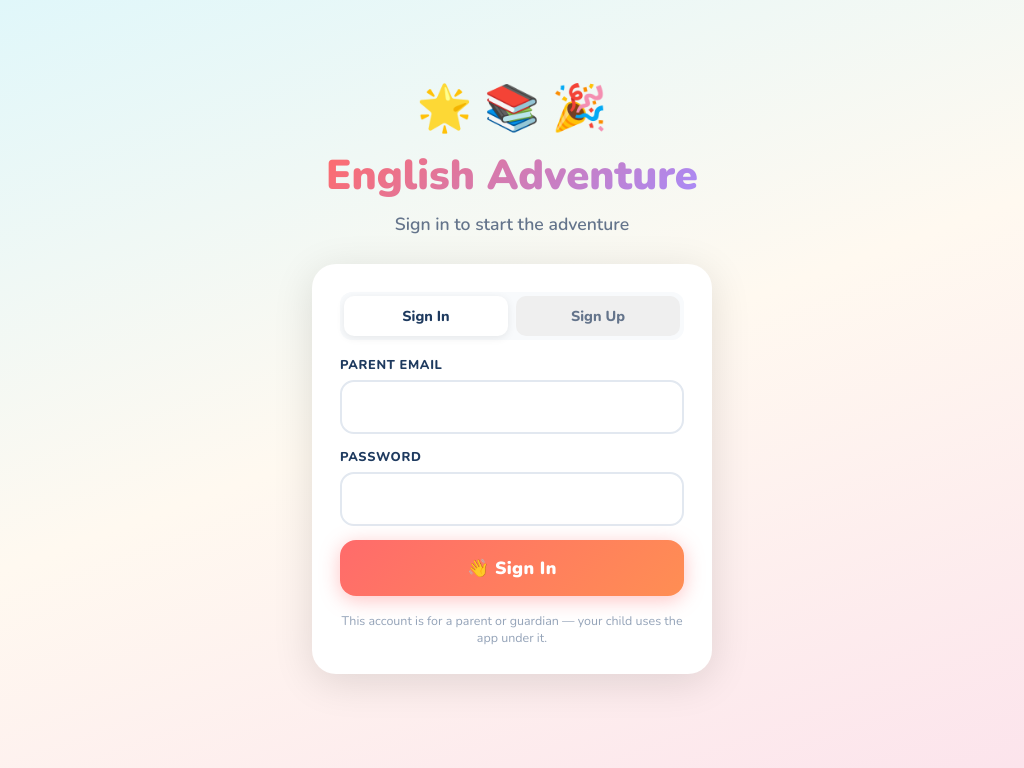
Scenario: AuthScreen › switches to the sign-up form when the Sign Up tab is clicked
Click the button "Sign Up": (598, 316) [516,296,680,336]
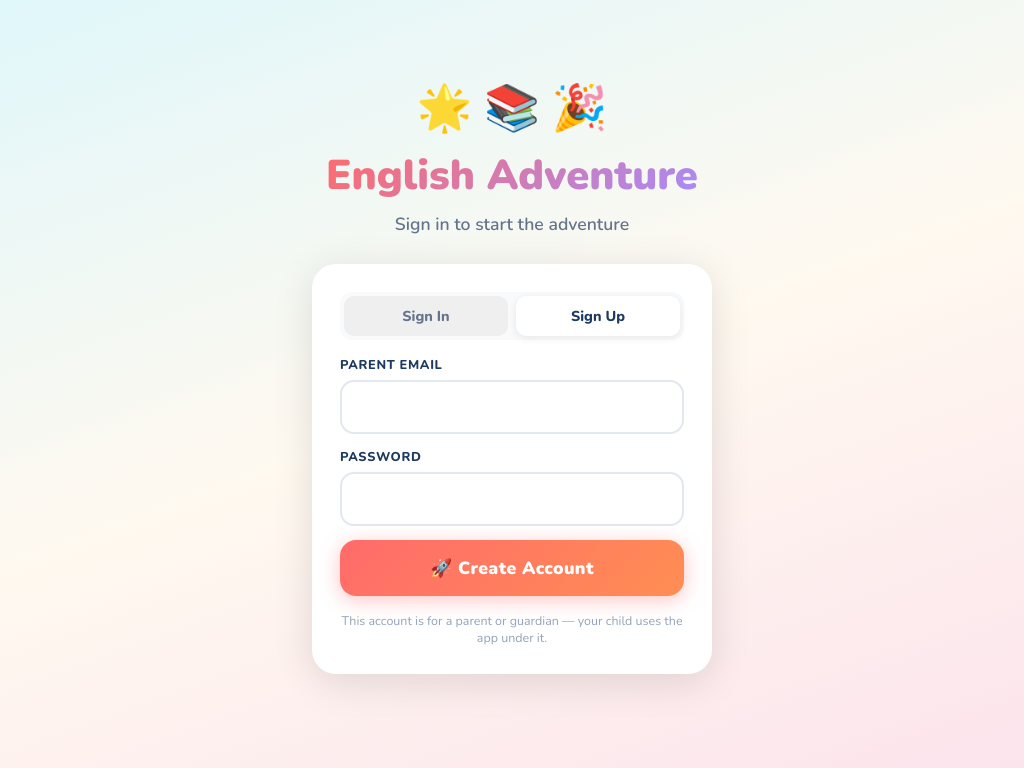
Check: the button "🚀 Create Account" is shown, box [340,540,684,596]
